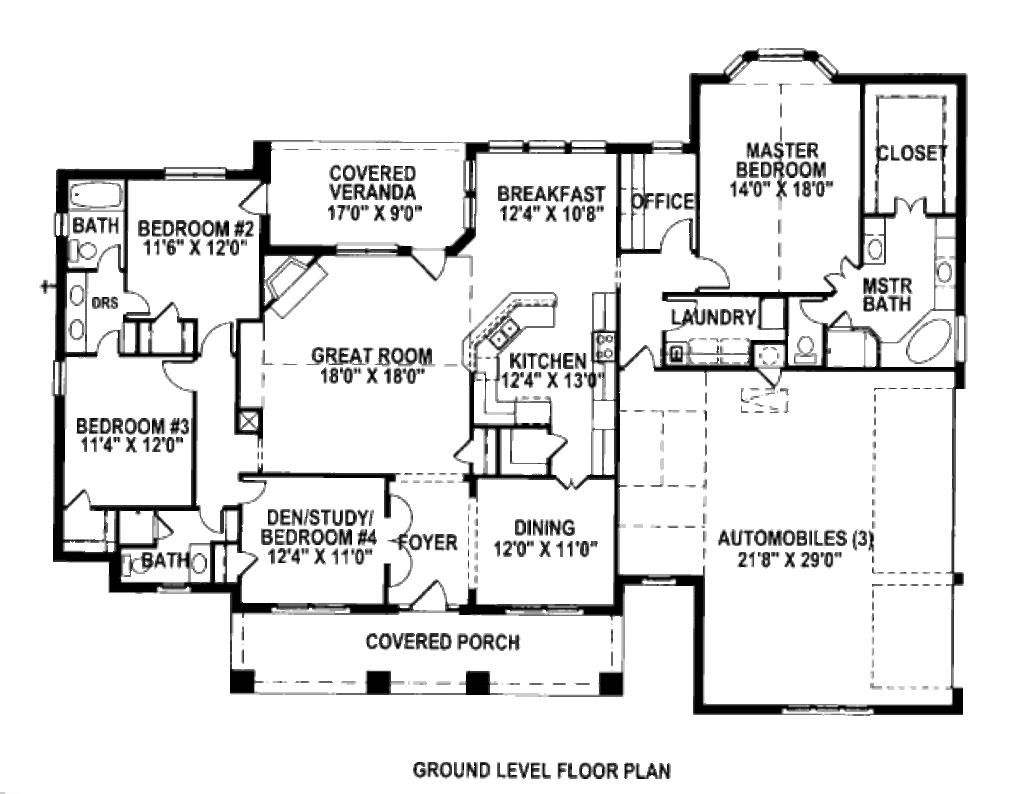door: (401, 578, 451, 618), (692, 249, 733, 293), (412, 246, 457, 281), (193, 318, 233, 357), (819, 252, 857, 293), (162, 357, 198, 397), (652, 215, 691, 251), (618, 339, 657, 373), (797, 297, 833, 332), (239, 183, 276, 217), (60, 485, 101, 514), (450, 436, 480, 473), (236, 476, 271, 506), (893, 193, 930, 220), (550, 470, 593, 493), (196, 507, 227, 536), (94, 330, 124, 357), (155, 297, 183, 325), (97, 242, 123, 272), (123, 290, 155, 314), (238, 546, 265, 572), (545, 430, 567, 458)
kitchen_bar: (450, 279, 559, 384)
large_sink: (790, 326, 833, 373), (117, 546, 154, 584), (66, 236, 96, 269)
small_sink: (52, 275, 91, 357), (929, 247, 957, 300), (865, 217, 890, 270), (190, 537, 212, 585)
tub: (888, 293, 956, 368), (69, 179, 128, 210)
window: (482, 135, 609, 159), (155, 162, 232, 185), (459, 154, 478, 202), (52, 355, 72, 399)
